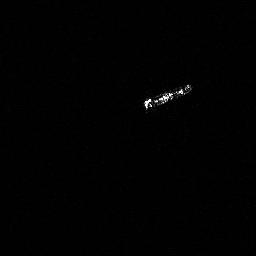ship: (142, 81, 193, 113)
